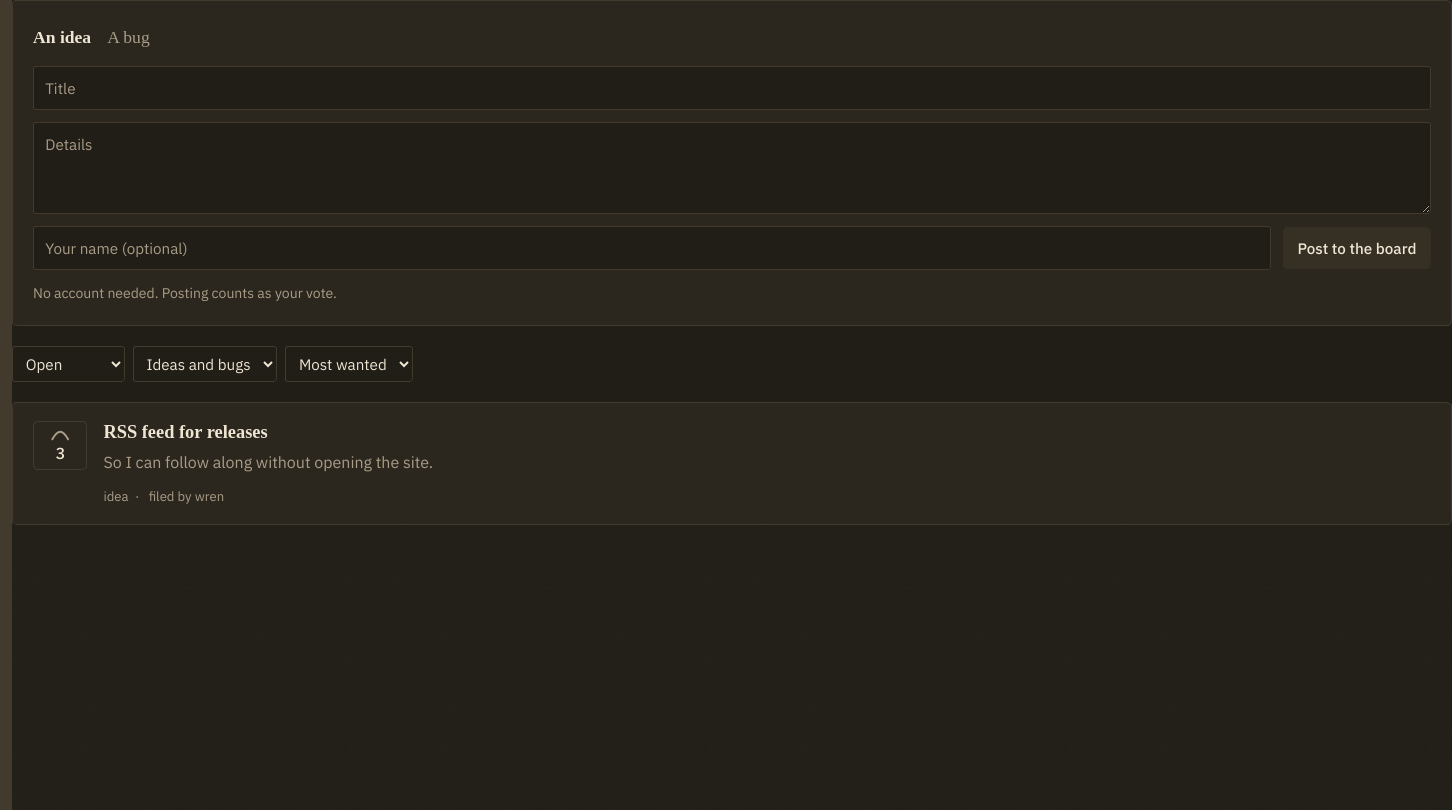
BoardPanel › votes, and trusts the server's count rather than counting locally
Check: the text with class "count" reads "3", box [55,443,65,463]
Click the button "3": {"x": 60, "y": 446} [33,421,87,470]
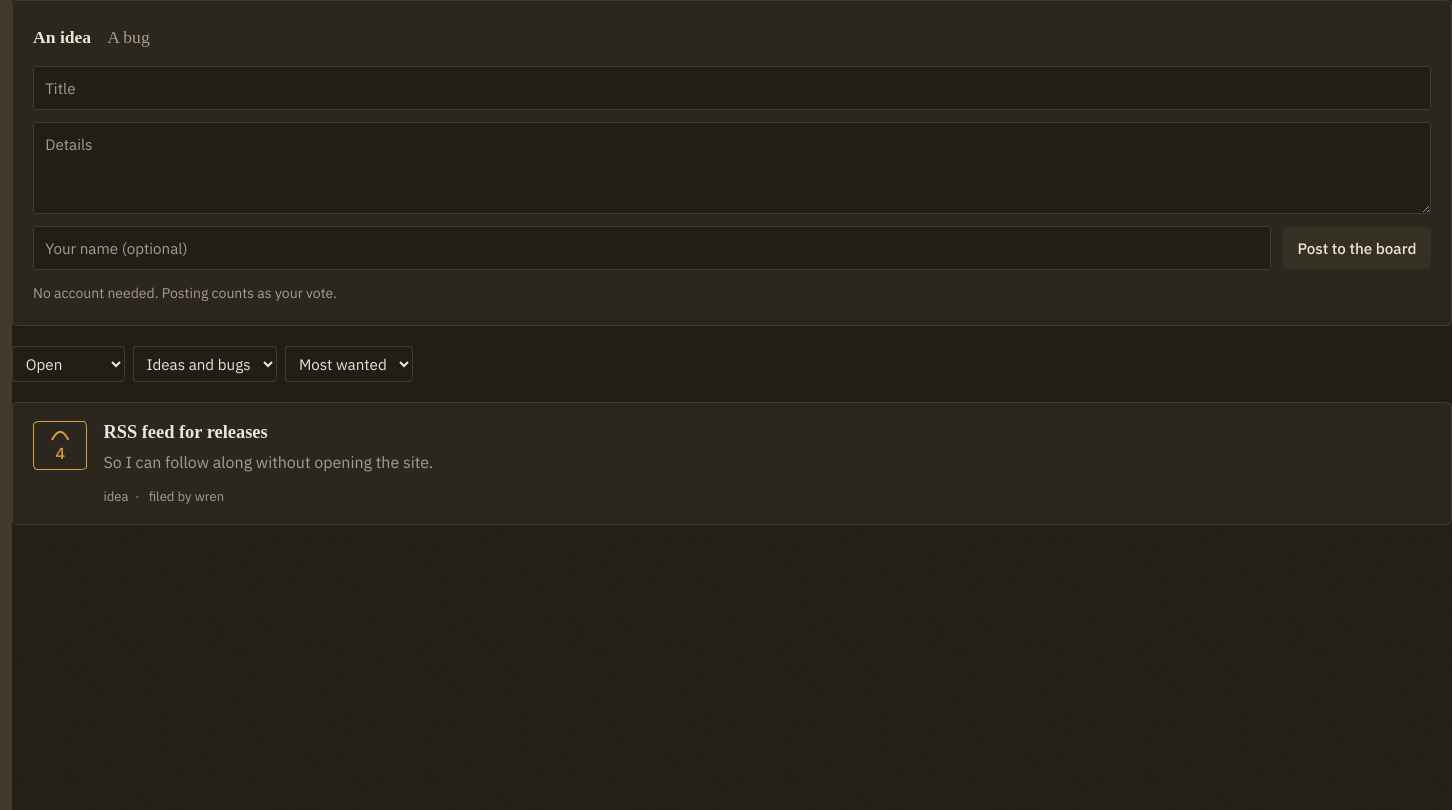
Check: the text with class "count" reads "4", box [55,443,65,463]
